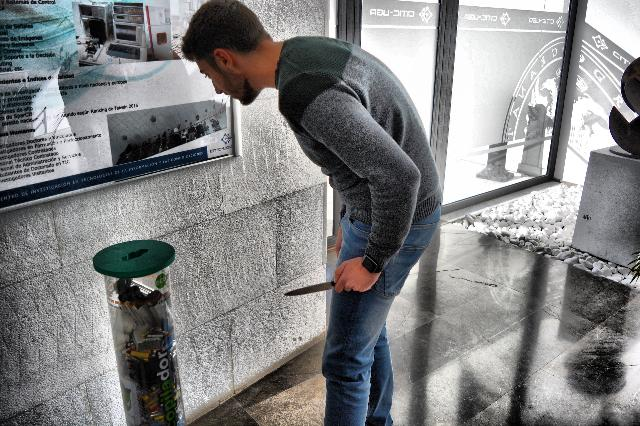knife: (281, 274, 343, 298)
